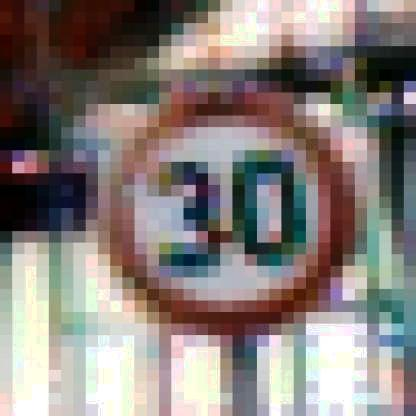Speed Limit -30-: (100, 85, 370, 332)
